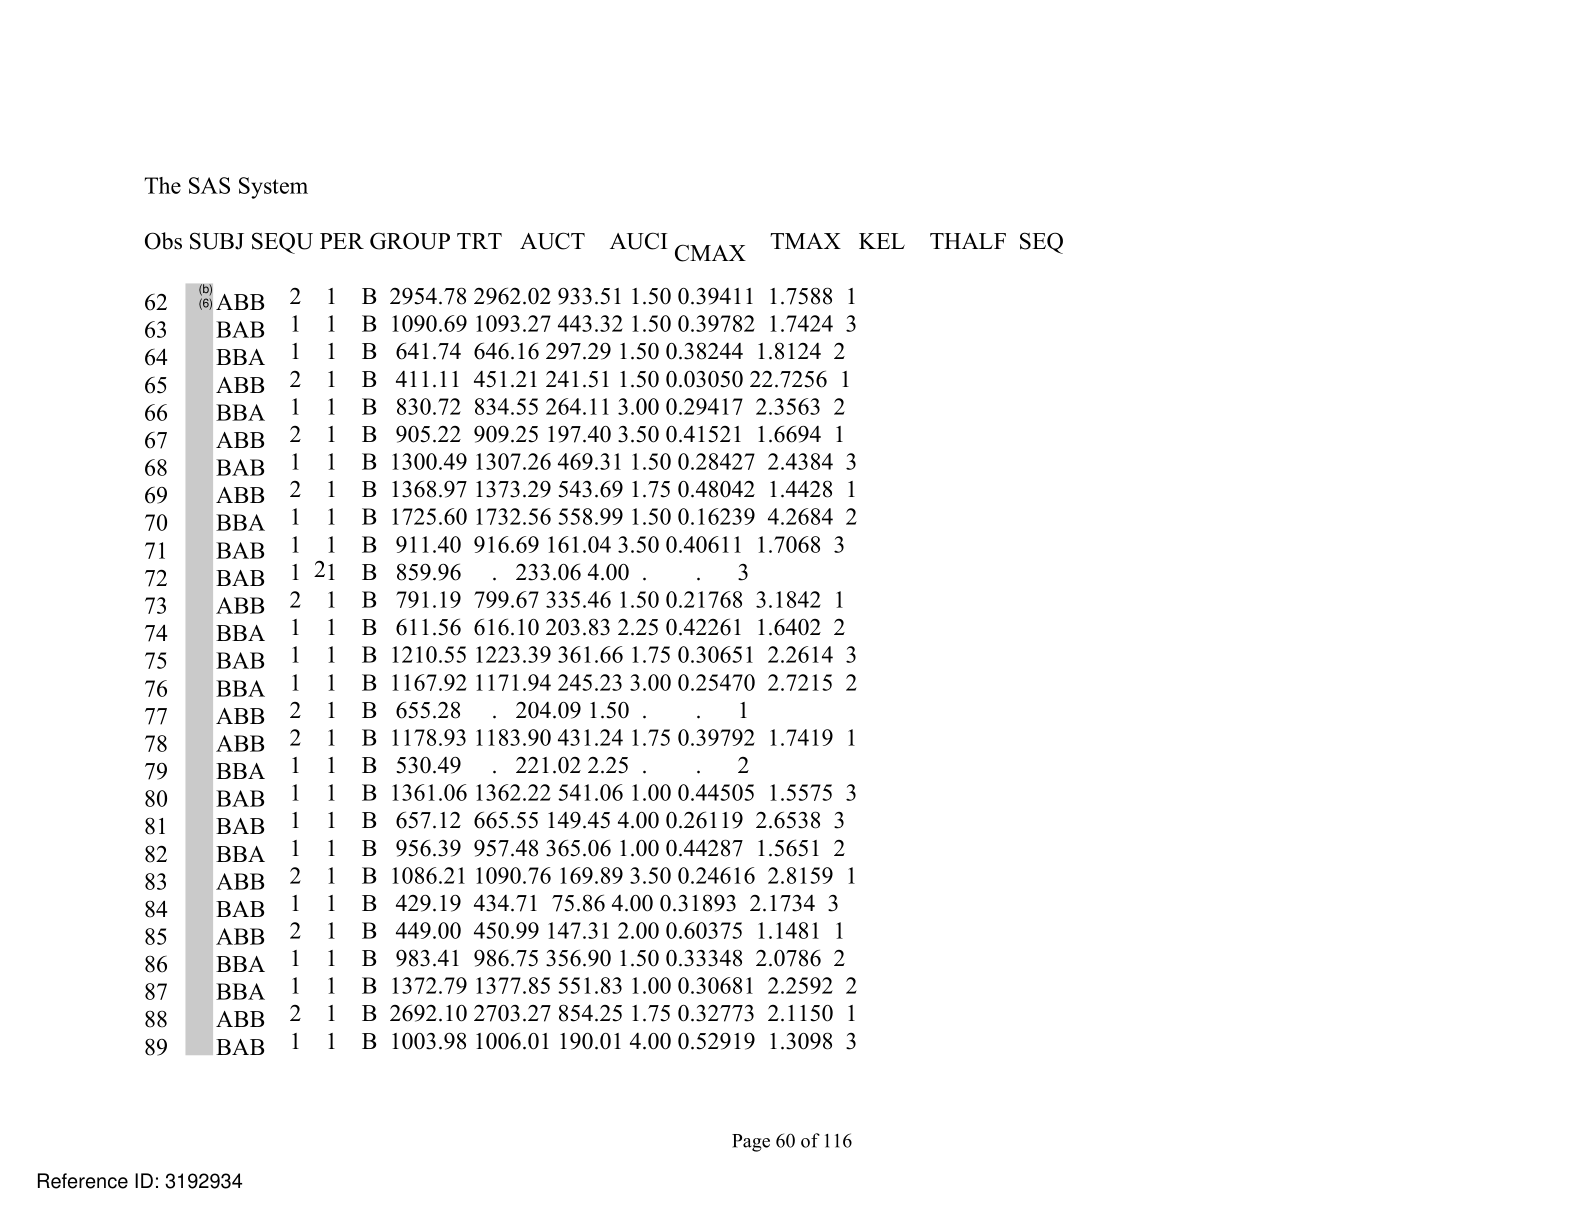nolines: (141, 222, 1068, 1059)
